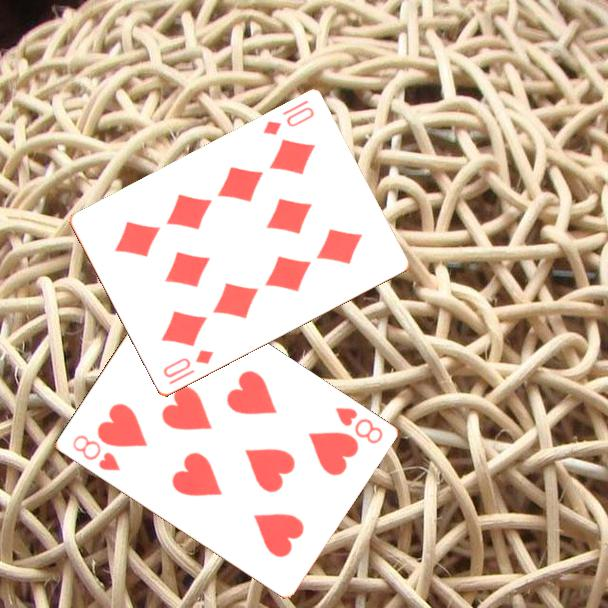d10: (259, 97, 317, 139), (159, 346, 216, 381)
h08: (68, 431, 123, 474), (331, 404, 386, 447)
